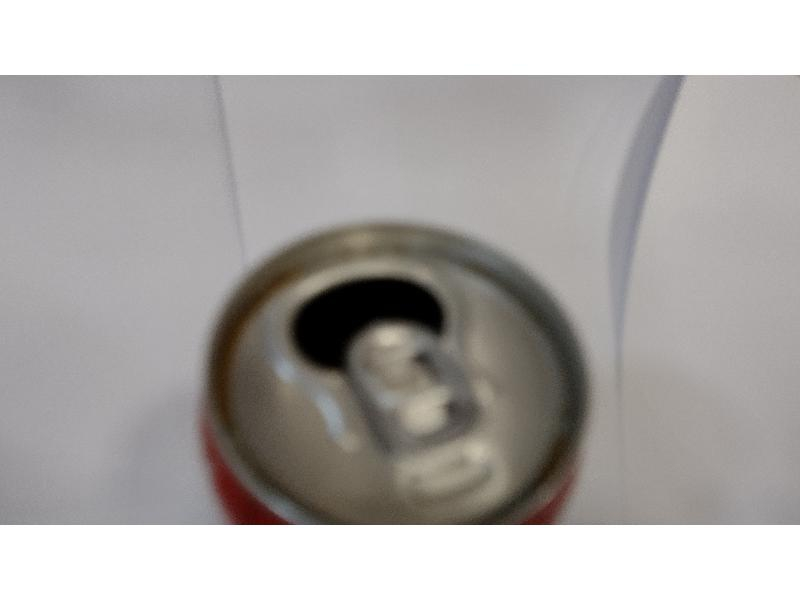can: (197, 221, 588, 517)
